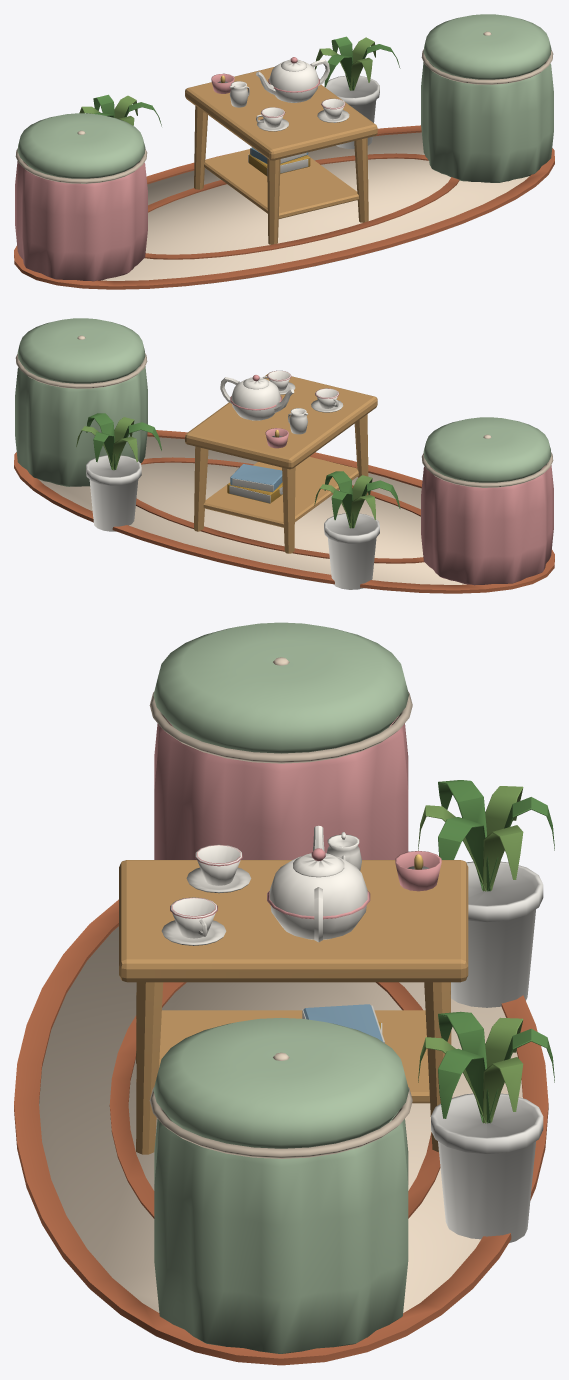
The model's file is welcomeTeaTable.glb.
The picture shows the model from 3 angles, top to bottom: view 1: azimuth 30°, elevation 25°; view 2: azimuth 150°, elevation 25°; view 3: azimuth 270°, elevation 25°; orthographic projection. The views are drawn at different scales.
Visible parts, largest first — view 1: body, teapot; view 2: body, teapot; view 3: body, teapot.
Boxes of the visible parts, <box> form: body: <box>14,14,554,289</box>; teapot: <box>256,57,329,102</box>; body: <box>14,318,554,593</box>; teapot: <box>220,375,294,420</box>; body: <box>14,622,554,1365</box>; teapot: <box>267,825,370,942</box>.
Size of the model in its own units: 1.94 by 0.5007 by 0.8675.
